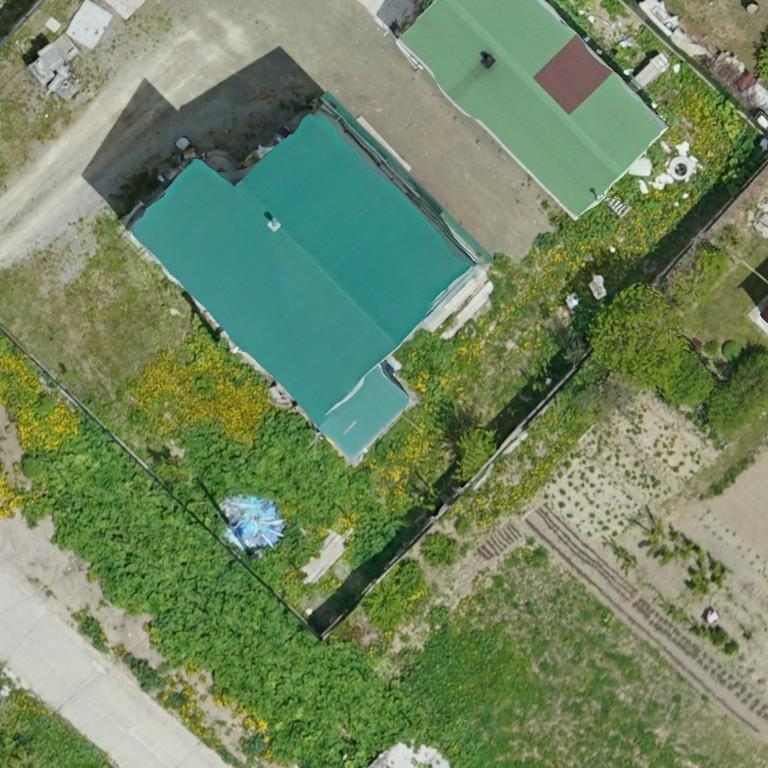hogweed: (25, 421, 408, 767), (182, 412, 408, 589), (582, 216, 615, 239), (534, 233, 551, 249)
